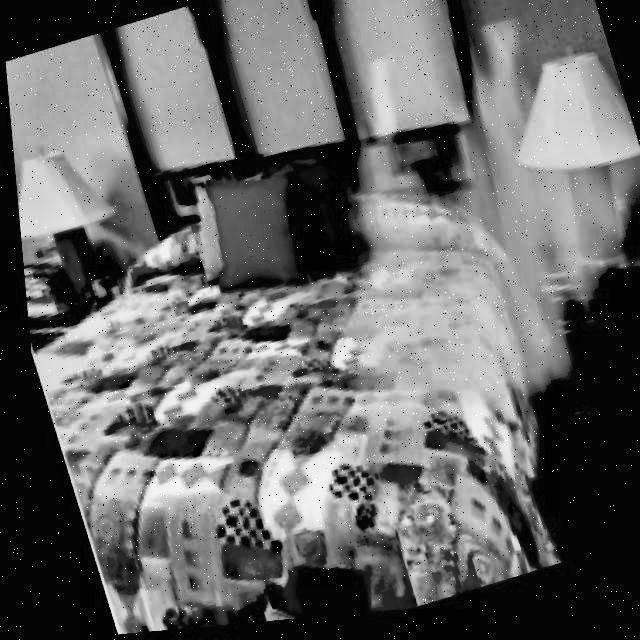Smoke: (234, 1, 640, 485)
